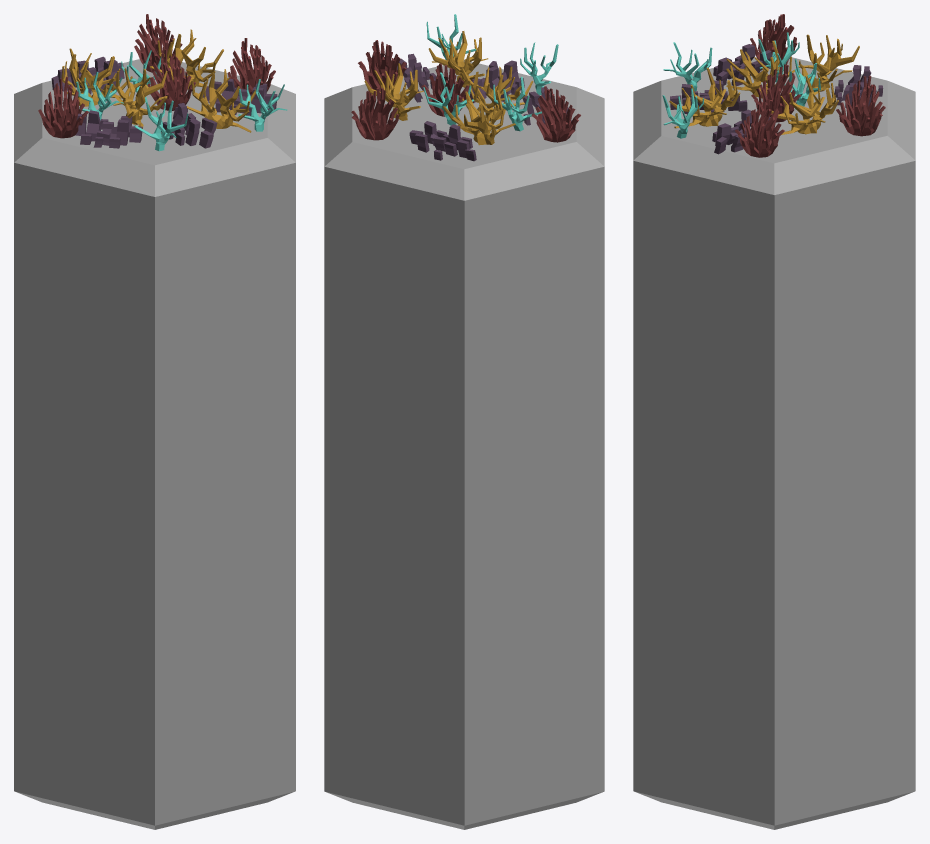
File: PSO_Asset_CoralReefs_Hexagon.fbx
3 renders of one model, left to right at view 1: azimuth 30°, elevation 25°; view 2: azimuth 150°, elevation 25°; view 3: azimuth 270°, elevation 25°, orthographic.
Parts seen in each view (by area): view 1: Hexagon, Coral6, Coral16, Coral15, Coral14, Coral10, Coral7, Coral3, Coral8, Coral2, Coral11, Coral12 (+4 smaller); view 2: Hexagon, Coral6, Coral2, Coral4, Coral3, Coral10, Coral7, Coral11, Coral15, Coral14, Coral8, Coral13 (+3 smaller); view 3: Hexagon, Coral2, Coral10, Coral11, Coral15, Coral3, Coral14, Coral7, Coral6, Coral16, Coral12, Coral4 (+4 smaller).
Boxes of the visible parts, x1,y1,x2,y2 form: Hexagon: [14, 59, 295, 829]; Coral6: [38, 76, 88, 138]; Coral16: [75, 110, 142, 148]; Coral15: [187, 69, 255, 132]; Coral14: [147, 49, 195, 110]; Coral10: [227, 38, 275, 94]; Coral7: [110, 68, 167, 128]; Coral3: [61, 48, 132, 106]; Coral8: [162, 103, 217, 148]; Coral2: [134, 14, 182, 72]; Coral11: [150, 29, 223, 89]; Coral12: [203, 78, 277, 115]; Hexagon: [324, 60, 604, 829]; Coral6: [531, 86, 580, 142]; Coral2: [351, 88, 398, 140]; Coral4: [409, 121, 476, 161]; Coral3: [442, 90, 515, 145]; Coral10: [358, 40, 406, 91]; Coral7: [461, 66, 533, 121]; Coral11: [364, 63, 423, 120]; Coral15: [428, 31, 488, 87]; Coral14: [421, 63, 469, 116]; Coral8: [470, 60, 524, 103]; Coral13: [493, 76, 541, 131]; Hexagon: [633, 57, 915, 829]; Coral2: [836, 75, 885, 136]; Coral10: [735, 99, 784, 157]; Coral11: [771, 75, 838, 134]; Coral15: [669, 67, 740, 128]; Coral3: [798, 34, 859, 100]; Coral14: [751, 64, 800, 122]; Coral7: [726, 40, 794, 98]; Coral6: [750, 14, 797, 68]; Coral16: [713, 44, 771, 86]; Coral12: [712, 109, 774, 154]; Coral4: [834, 65, 883, 107].
Size of the model in its own units: 464 by 1127 by 402.
